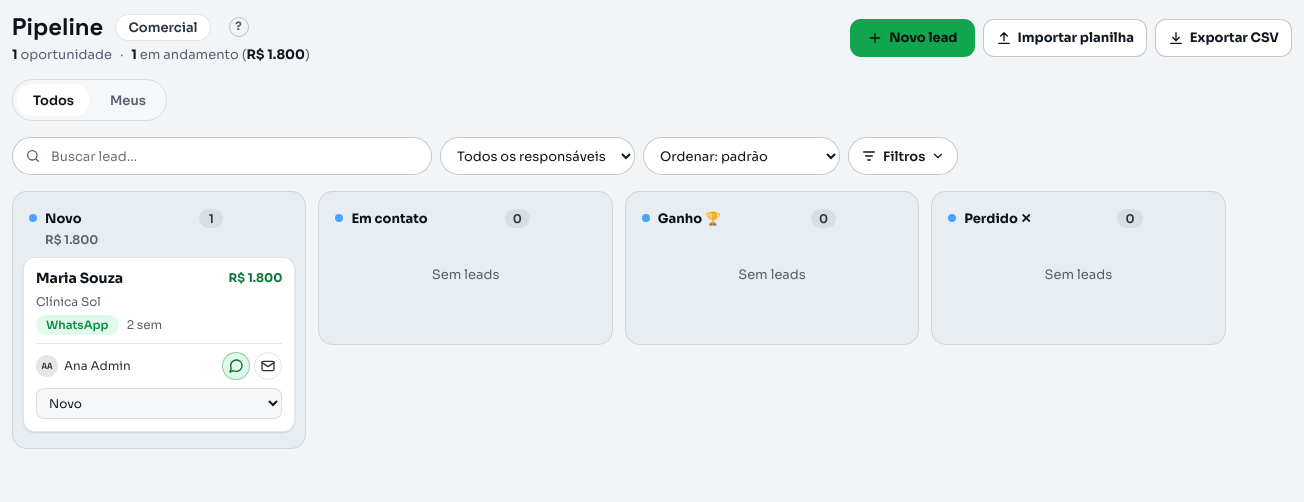
it: filtros: progressive disclosure e chips removíveis › 'Limpar filtros' zera tudo de uma vez e some quando não há mais nada ativo
Expected: the text "Maria Souza" is shown, x1=36 y1=270 x2=123 y2=288
In the field labelled "Buscar lead": (234, 156) x1=49 y1=146 x2=419 y2=166, type "x"
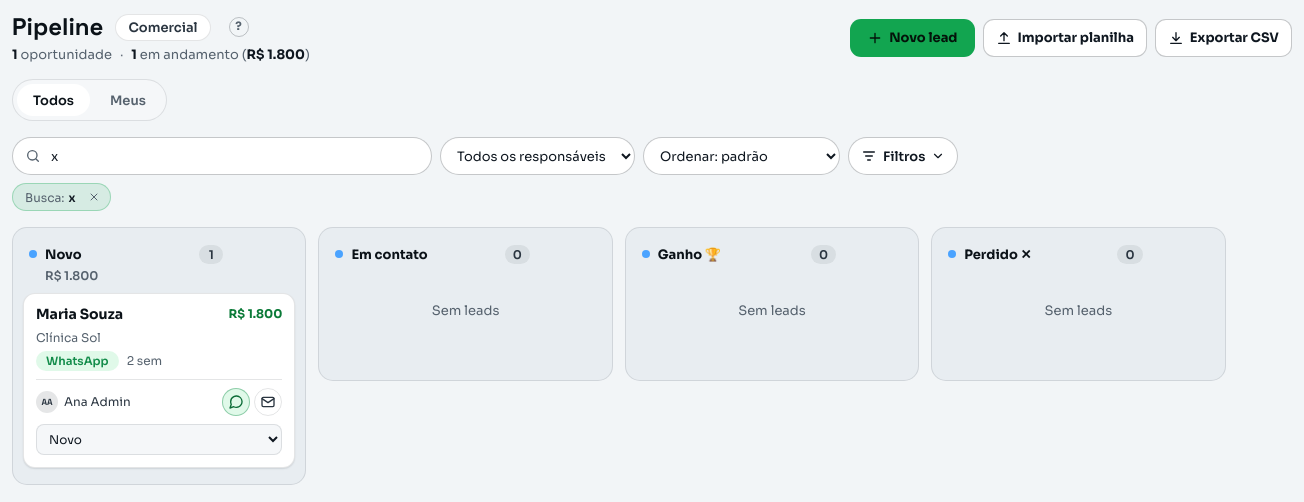
Select "Nome Z-A" in the dropdown named "Ordenação": (742, 156) x1=643 y1=137 x2=840 y2=175
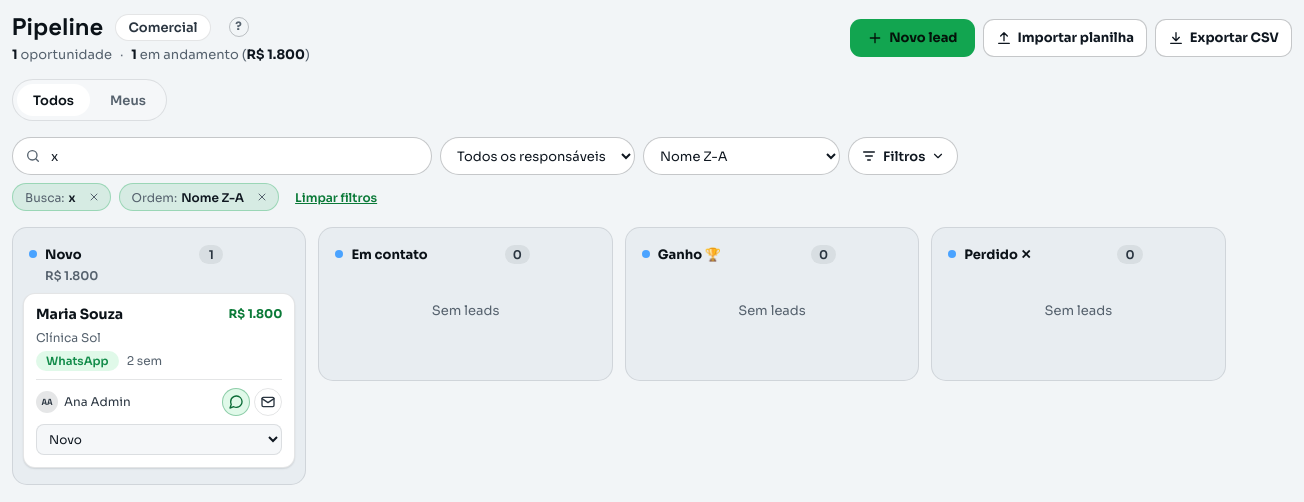
Click the button "Limpar filtros": click(336, 197) x1=287 y1=183 x2=385 y2=211
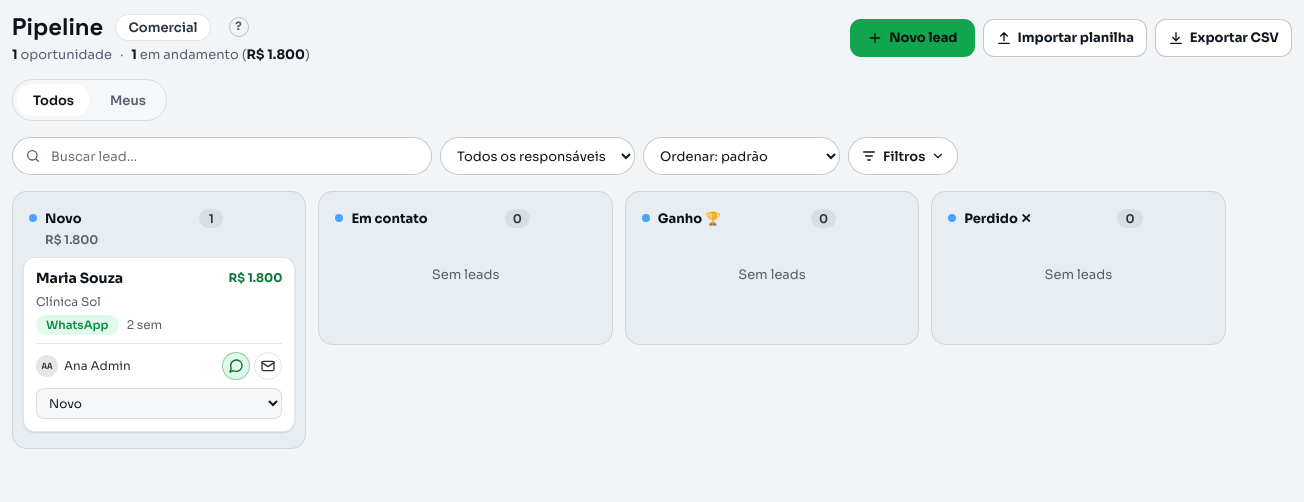
Now the field labelled "Buscar lead" is empty, box x1=49 y1=146 x2=419 y2=166
